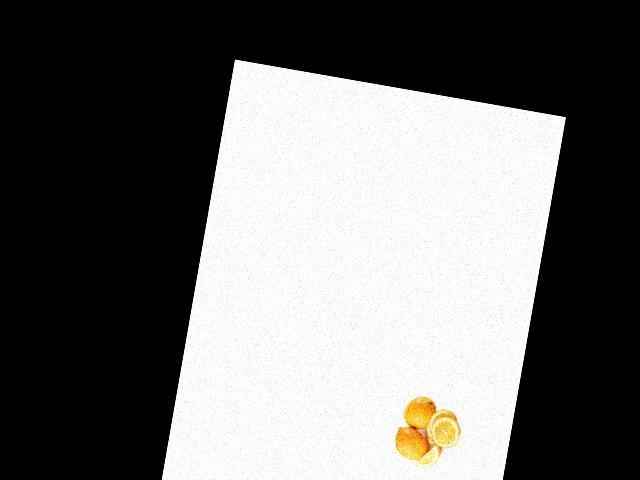lemon: (401, 394, 436, 434)
